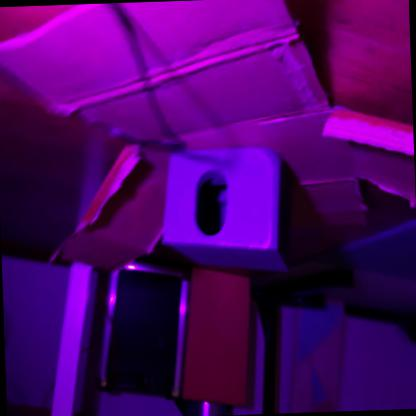CornerCasting: (164, 140, 294, 285)
